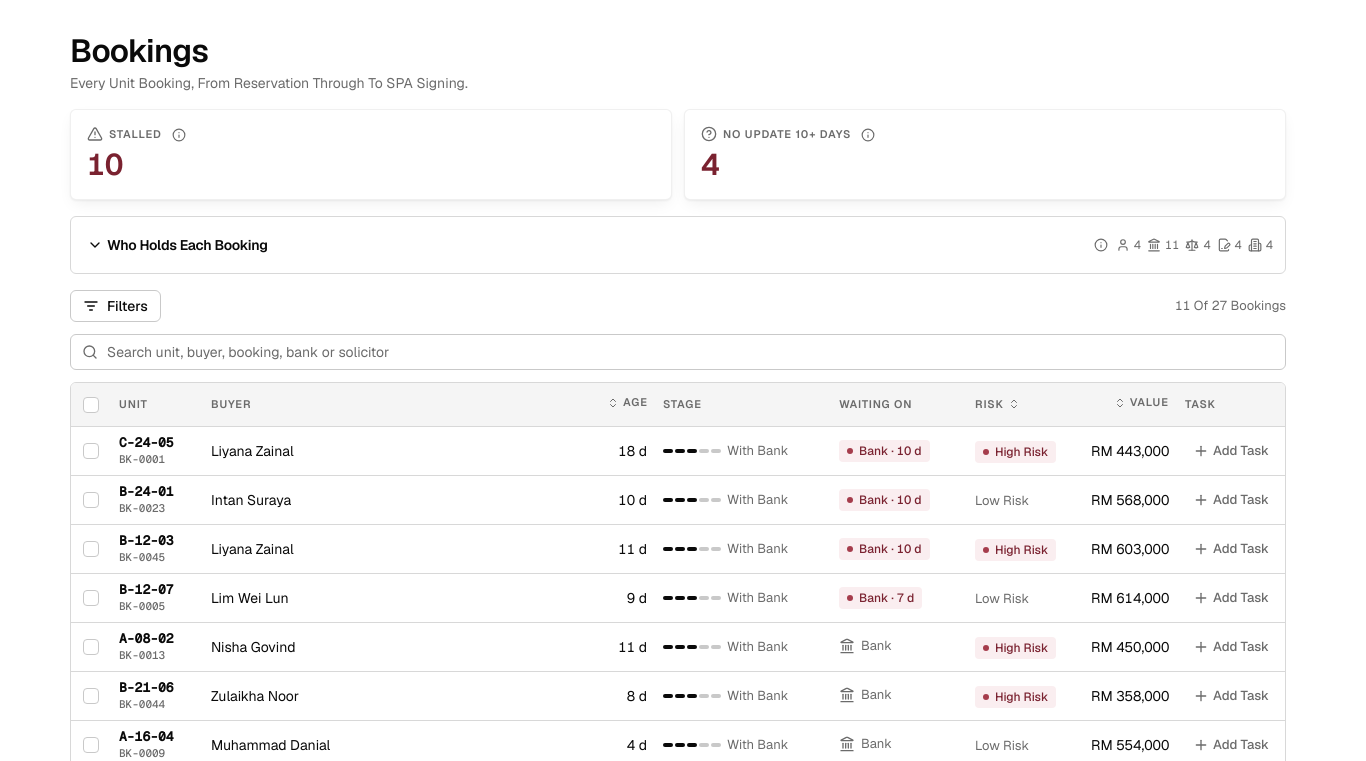
Test case: BookingsPage › offers only the current tab’s stages, and resets Stage to All when switching tabs (issue M10)
Check: the button "Filters" is shown, box 70,290 -> 161,322
Step 1. Click the button "Who Holds Each Booking" → (177, 245), box 75,229 -> 280,261
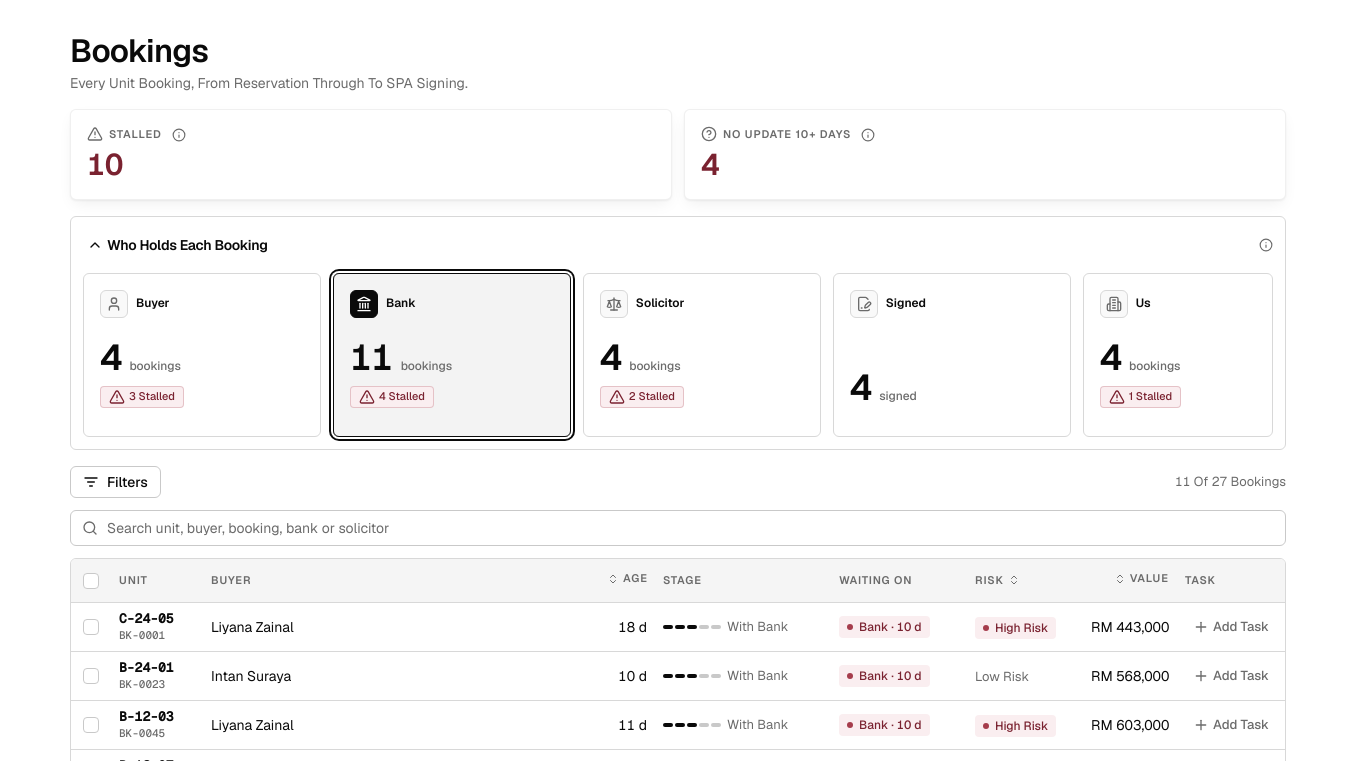
Step 2. Click the button with aria-label "Filter by Bank" → (452, 355), box 333,273 -> 571,437
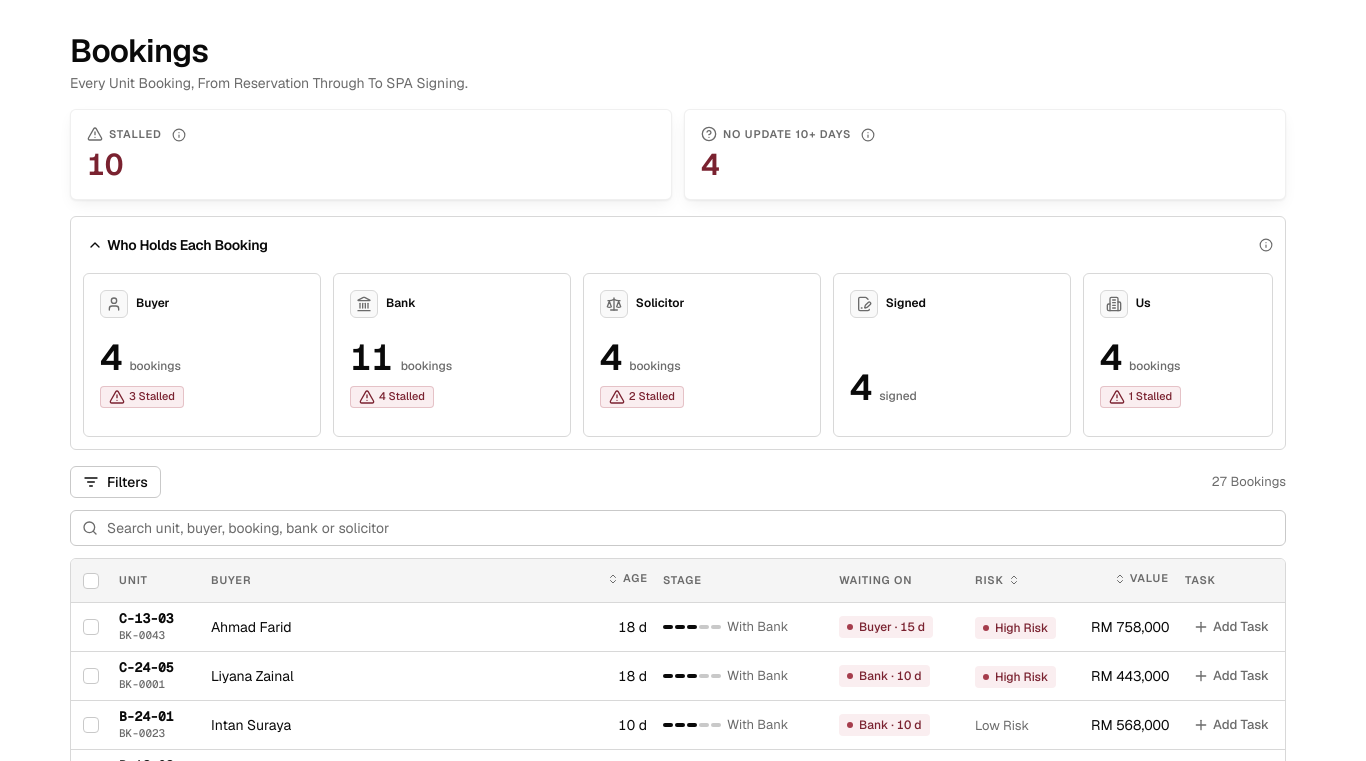
Step 3. Click the button "Filters" → (115, 482), box 70,466 -> 161,498
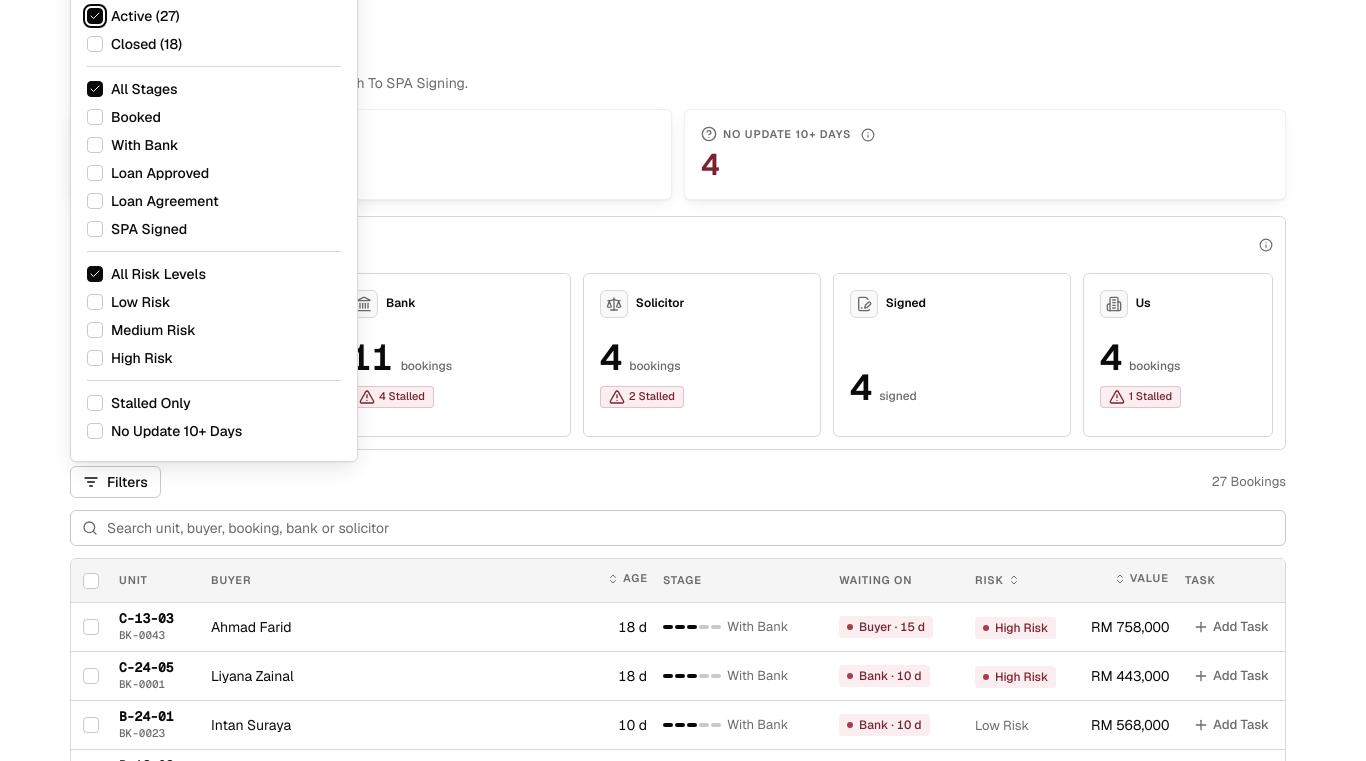
Check: the text "27 Bookings" is shown, box 1212,472 -> 1286,491
Step 4. Click the 4th checkbox named "Booked" → (95, 117), box 87,109 -> 103,125
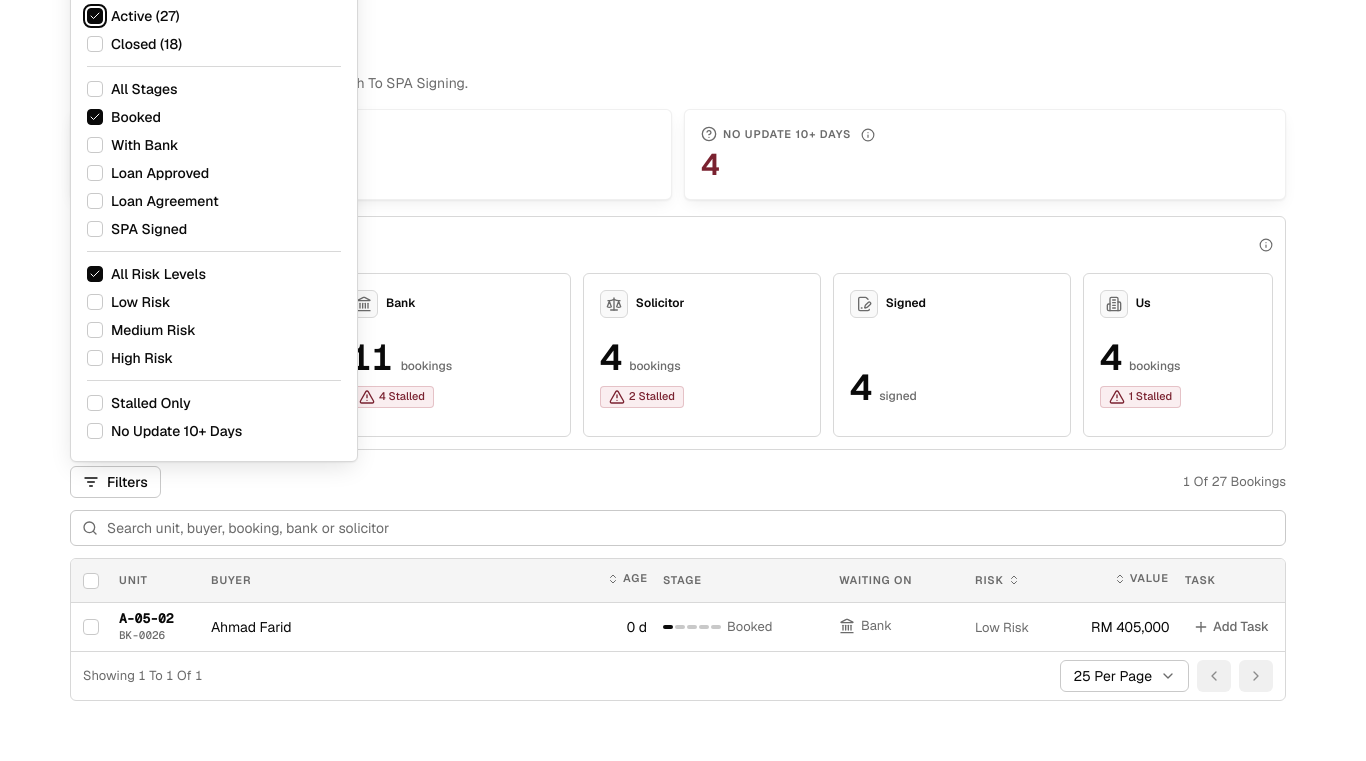
Check: the text "1 Of 27 Bookings" is shown, box 1183,472 -> 1286,491
Step 5. Click the checkbox named "Closed (18)" next to "Closed (18)" → (95, 44), box 87,36 -> 103,52
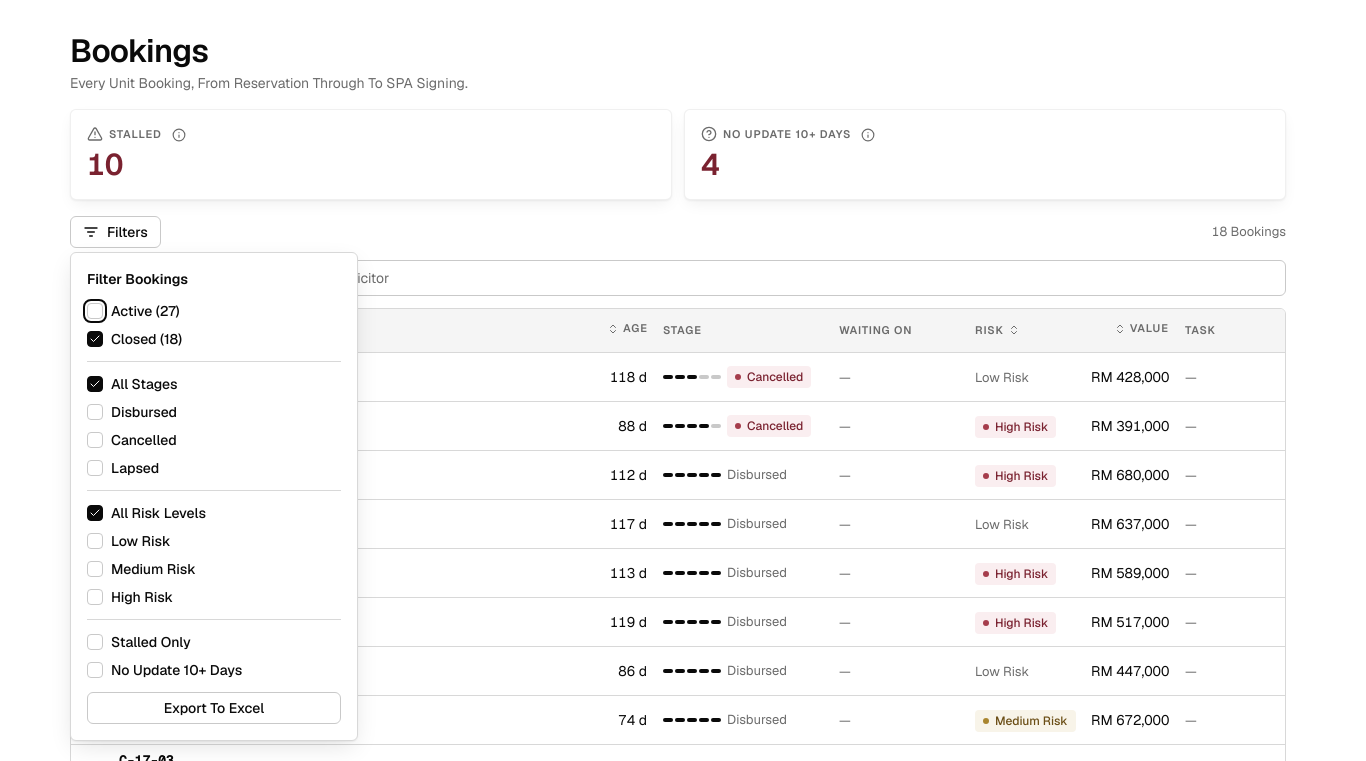
Check: the checkbox named "All Stages" next to "All Stages" is shown, box 87,376 -> 103,392
Check: the text "18 Bookings" is shown, box 1212,222 -> 1286,241
Check: the text "Booked" is gone
